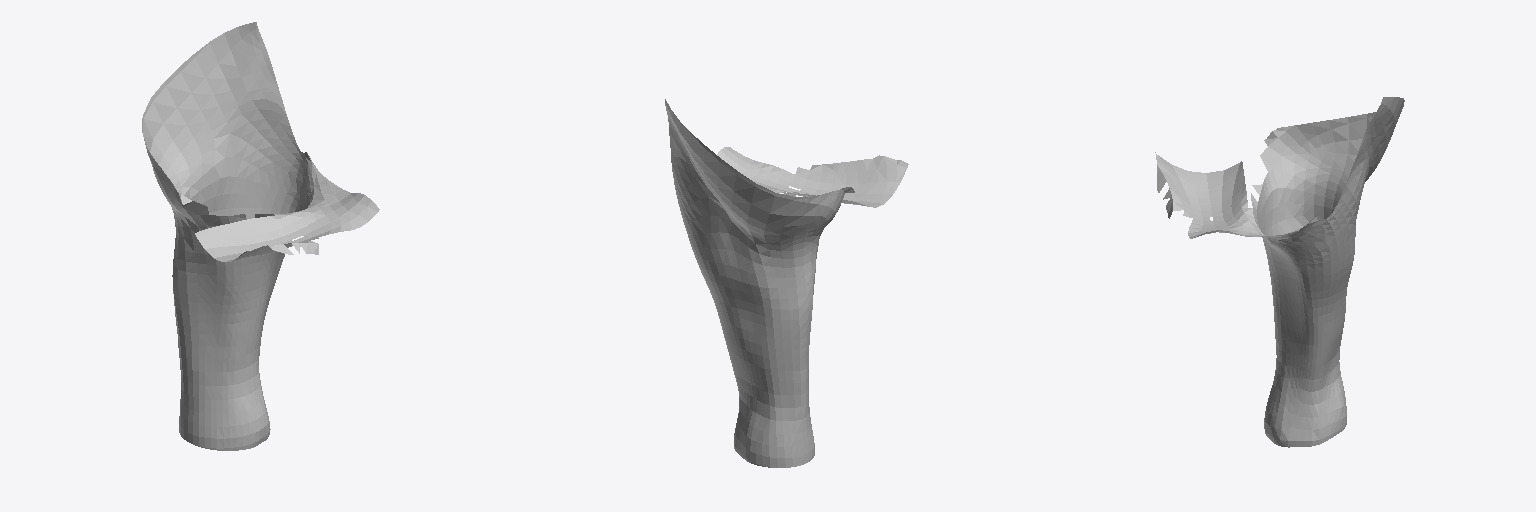
File: leg_front_middle_left.obj
3 renders of one model, left to right at view 1: azimuth 30°, elevation 25°; view 2: azimuth 150°, elevation 25°; view 3: azimuth 270°, elevation 25°, orthographic.
Visible parts, largest first — view 1: 15548_French_Horseman_v1.002, 15548_French_Horseman_v1.006; view 2: 15548_French_Horseman_v1.002, 15548_French_Horseman_v1.006; view 3: 15548_French_Horseman_v1.002, 15548_French_Horseman_v1.006.
Boxes of the visible parts, x1,y1,x2,y2 form: 15548_French_Horseman_v1.002: [142, 22, 345, 450]; 15548_French_Horseman_v1.006: [195, 191, 379, 261]; 15548_French_Horseman_v1.002: [665, 99, 854, 467]; 15548_French_Horseman_v1.006: [717, 147, 908, 207]; 15548_French_Horseman_v1.002: [1248, 97, 1404, 447]; 15548_French_Horseman_v1.006: [1155, 152, 1252, 238].
Bounding box in the file's own units: 1.36 × 2.95 × 1.81.